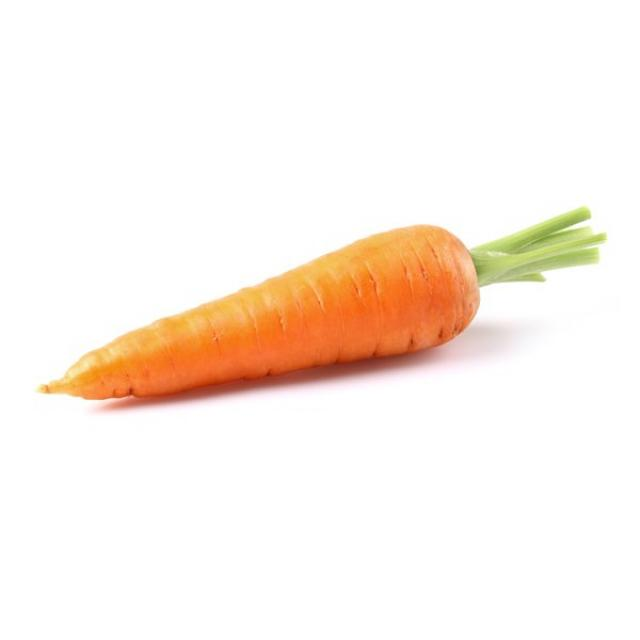Carrot: (35, 203, 614, 400)
